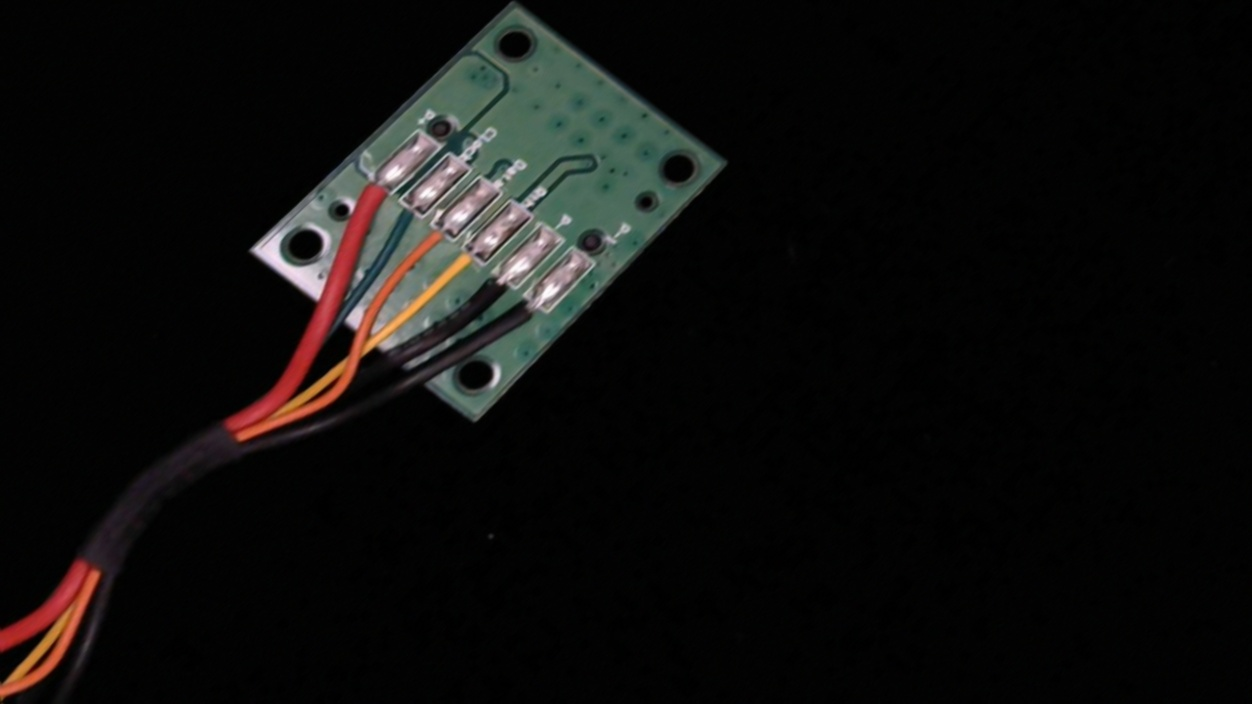Black: (440, 255, 532, 335)
Black1: (476, 282, 562, 358)
Green: (365, 185, 442, 249)
Orange: (388, 210, 470, 279)
Red: (326, 160, 416, 234)
Yellow: (406, 232, 499, 312)
